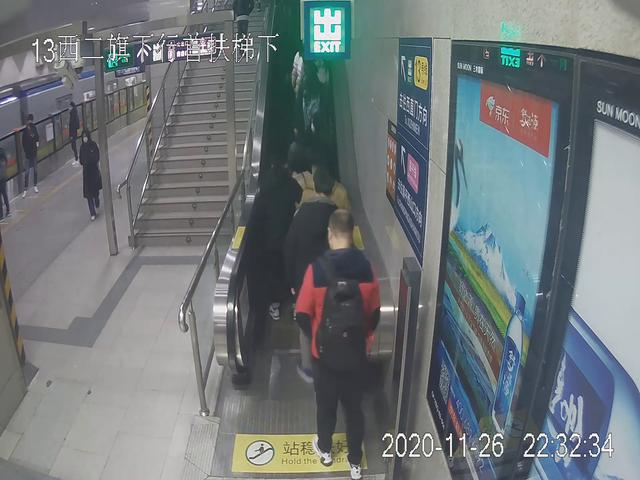person: (296, 208, 381, 476), (78, 130, 104, 222), (17, 115, 44, 200), (66, 100, 79, 163)
